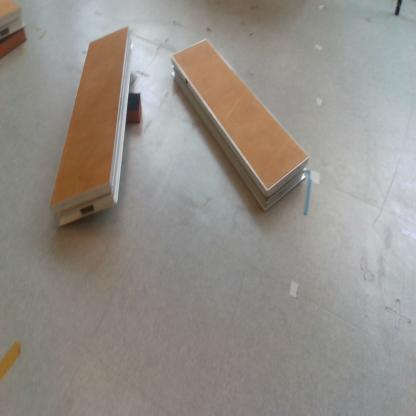Stairs: (172, 39, 309, 217), (51, 28, 134, 233), (1, 1, 24, 43)
